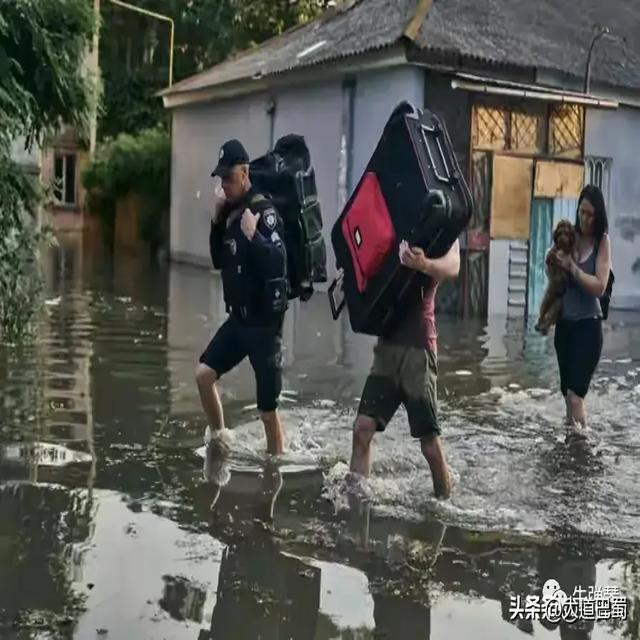Person-RiskLevel2: (325, 97, 478, 505), (189, 128, 320, 469), (532, 173, 617, 436)
